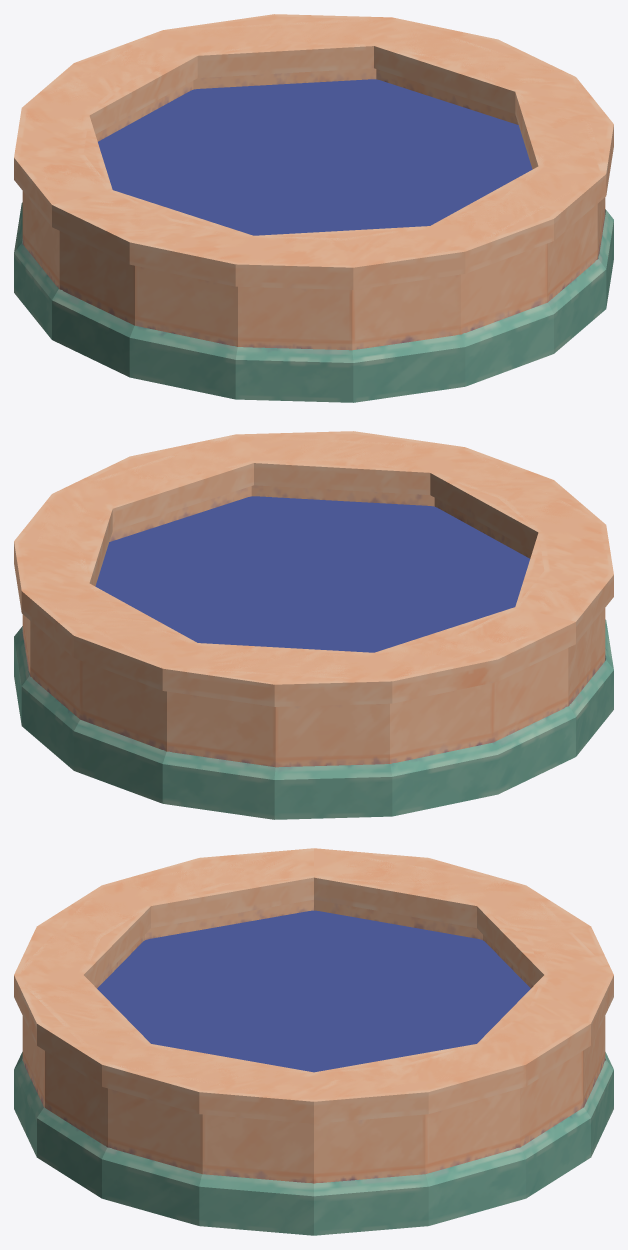
Rendered from vat_indigo.bundle.fbx.
3 renders of one model, top to bottom at view 1: azimuth 30°, elevation 25°; view 2: azimuth 150°, elevation 25°; view 3: azimuth 270°, elevation 25°, orthographic.
Visible parts, largest first — view 1: vat_indigo, vat_indigo_low, vat_indigo_s01, vat_indigo_s03, vat_indigo_s02, vat_indigo_s07, vat_indigo_s06, vat_indigo_s04, vat_indigo_s05, vat_indigo_s00; view 2: vat_indigo, vat_indigo_low, vat_indigo_s03, vat_indigo_s04, vat_indigo_s02, vat_indigo_s06, vat_indigo_s07, vat_indigo_s01, vat_indigo_s05; view 3: vat_indigo, vat_indigo_low, vat_indigo_s03, vat_indigo_s04, vat_indigo_s07, vat_indigo_s01, vat_indigo_s06, vat_indigo_s05, vat_indigo_s02.
Part boxes in pixels (<box>): vat_indigo: <box>14,14,613,402</box>; vat_indigo_low: <box>22,17,605,347</box>; vat_indigo_s01: <box>107,20,363,152</box>; vat_indigo_s03: <box>275,88,604,217</box>; vat_indigo_s02: <box>347,18,577,116</box>; vat_indigo_s07: <box>22,61,157,175</box>; vat_indigo_s06: <box>45,161,296,288</box>; vat_indigo_s04: <box>283,193,517,254</box>; vat_indigo_s05: <box>393,80,579,131</box>; vat_indigo_s00: <box>516,168,605,260</box>; vat_indigo: <box>14,431,613,819</box>; vat_indigo_low: <box>22,434,605,764</box>; vat_indigo_s03: <box>76,438,412,599</box>; vat_indigo_s04: <box>321,442,533,582</box>; vat_indigo_s02: <box>22,491,107,677</box>; vat_indigo_s06: <box>460,500,603,707</box>; vat_indigo_s07: <box>258,625,525,680</box>; vat_indigo_s01: <box>56,608,299,752</box>; vat_indigo_s05: <box>64,487,372,617</box>; vat_indigo: <box>14,848,613,1235</box>; vat_indigo_low: <box>15,848,613,1183</box>; vat_indigo_s03: <box>109,977,327,1085</box>; vat_indigo_s04: <box>14,915,247,1039</box>; vat_indigo_s07: <box>366,859,576,971</box>; vat_indigo_s01: <box>332,934,613,1060</box>; vat_indigo_s06: <box>90,849,375,979</box>; vat_indigo_s05: <box>287,977,397,1092</box>; vat_indigo_s02: <box>306,1038,530,1183</box>.
Bounding box in the file's own units: 6.9 × 1.7 × 6.9.
Materials: 1 (1 with a texture image).
